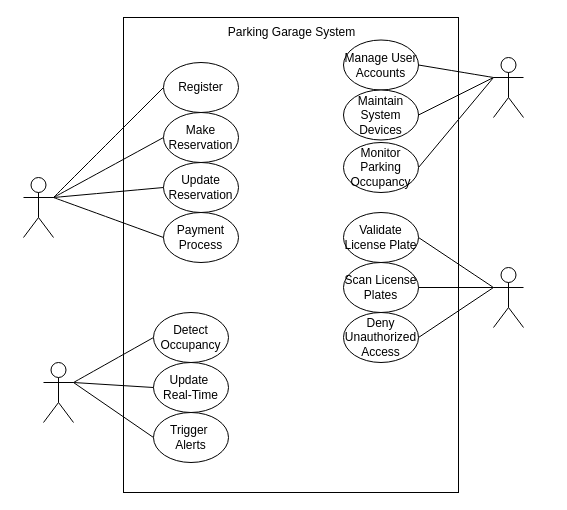
This 567x510 diagram has some shape labels left out. Here are the shapes that lost their labels. From the top down, the centre of each, then its label:
pixel 508 87: Admin
pixel 38 207: Client
pixel 508 297: License Reader
pixel 58 392: Parking Sensor
